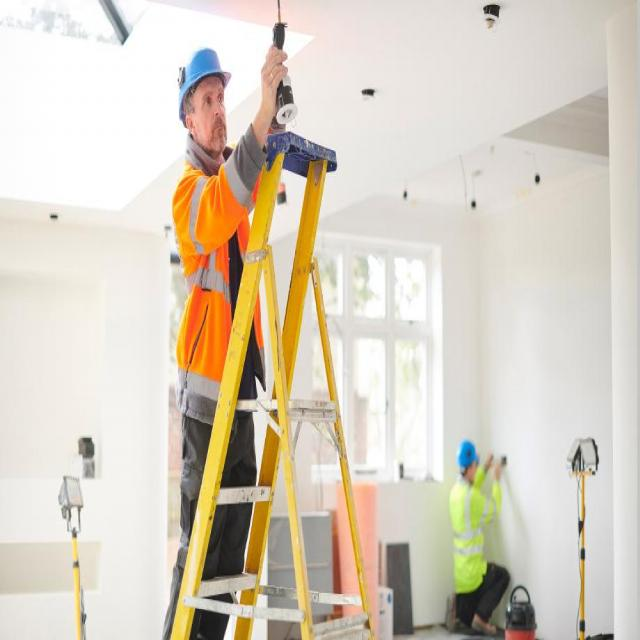Reflective-Jacket: (167, 151, 257, 402), (440, 469, 505, 604)
Safety-Helmet: (173, 40, 233, 112), (449, 426, 483, 478)
